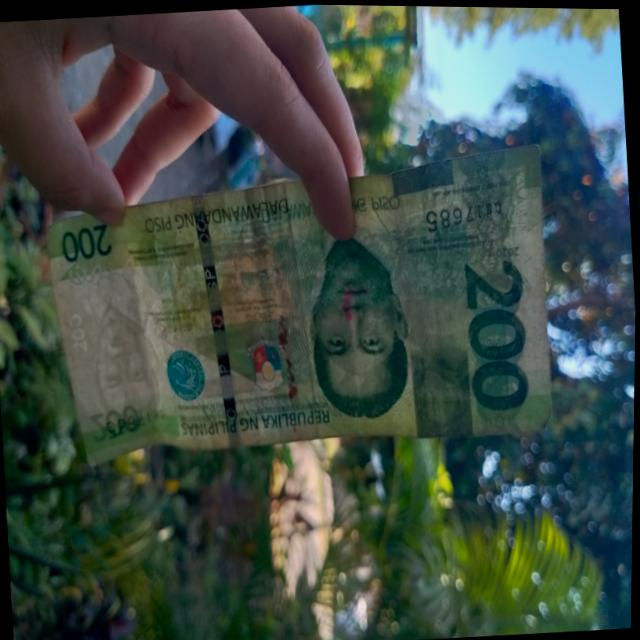concealed_value: (407, 341, 473, 440)
security_thread: (190, 193, 240, 443)
see_through_mark: (66, 246, 155, 291)
serial_number: (421, 193, 506, 234)
value: (455, 242, 535, 419)
value_watermark: (61, 305, 92, 362)
watermark: (79, 276, 172, 424)
